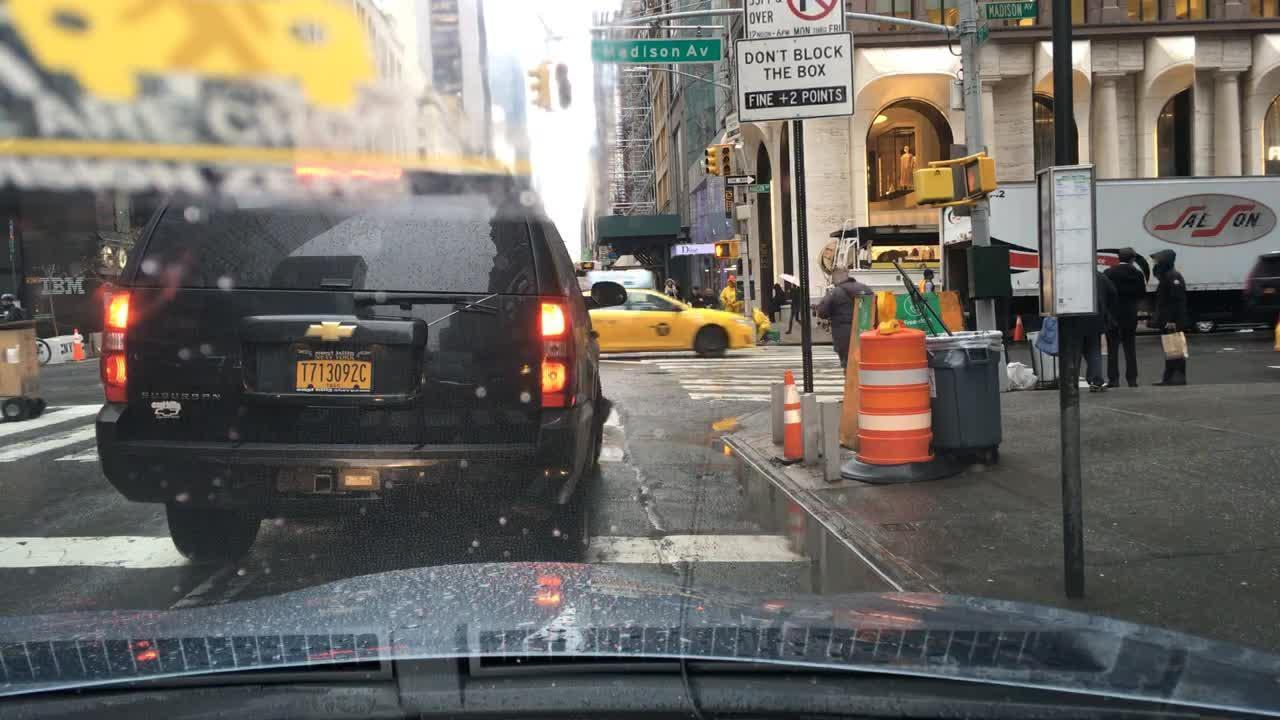chevrolet: (300, 319, 360, 343)
